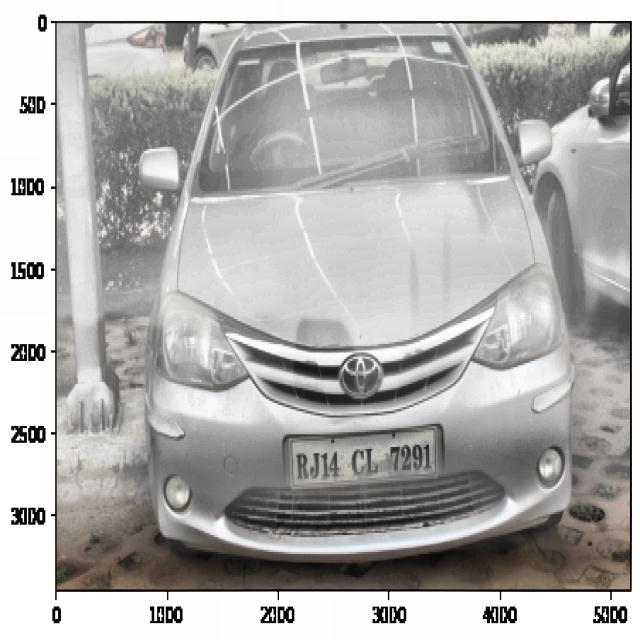license_plate: (292, 436, 439, 486)
